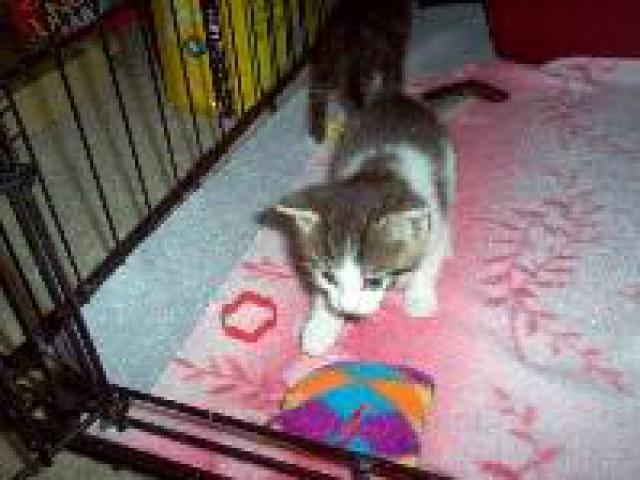cat: (274, 65, 506, 353)
